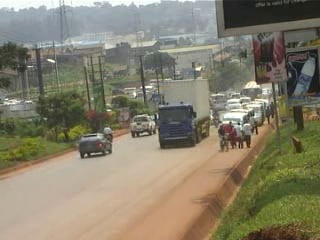Car: (76, 131, 114, 159)
Motorcycle: (100, 124, 115, 144), (210, 110, 222, 127)
